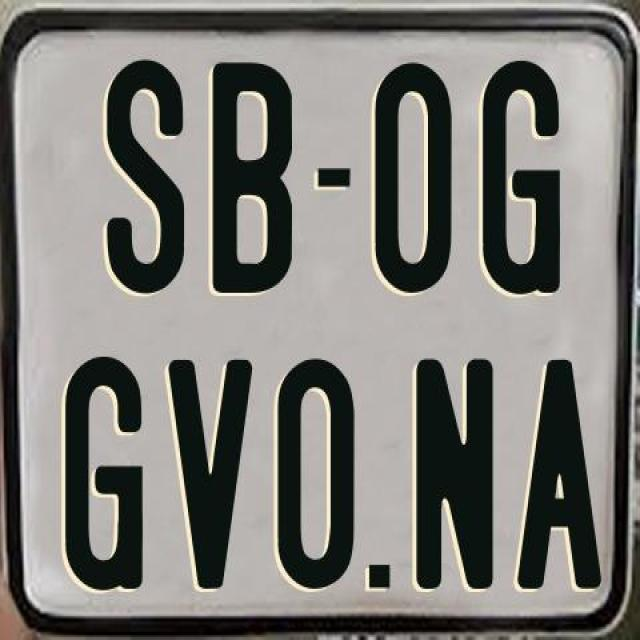0: (372, 62, 457, 296), (276, 355, 360, 587)
A: (514, 357, 604, 596)
B: (210, 63, 290, 294)
G: (62, 354, 144, 596), (478, 56, 560, 294)
N: (412, 358, 490, 592)
S: (104, 58, 183, 292)
V: (168, 355, 260, 584)
